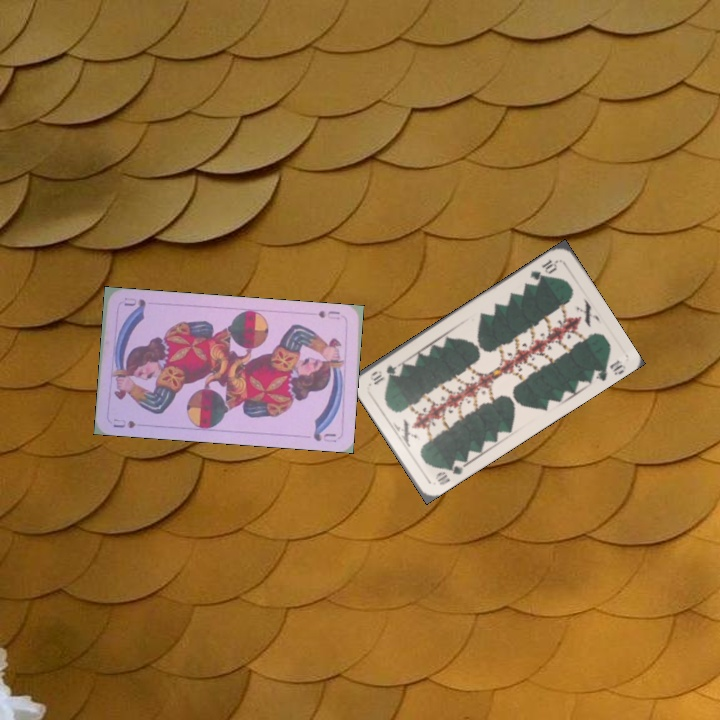G10: (431, 458, 467, 488), (525, 255, 560, 283)
SU: (109, 415, 138, 430), (314, 307, 342, 322)
